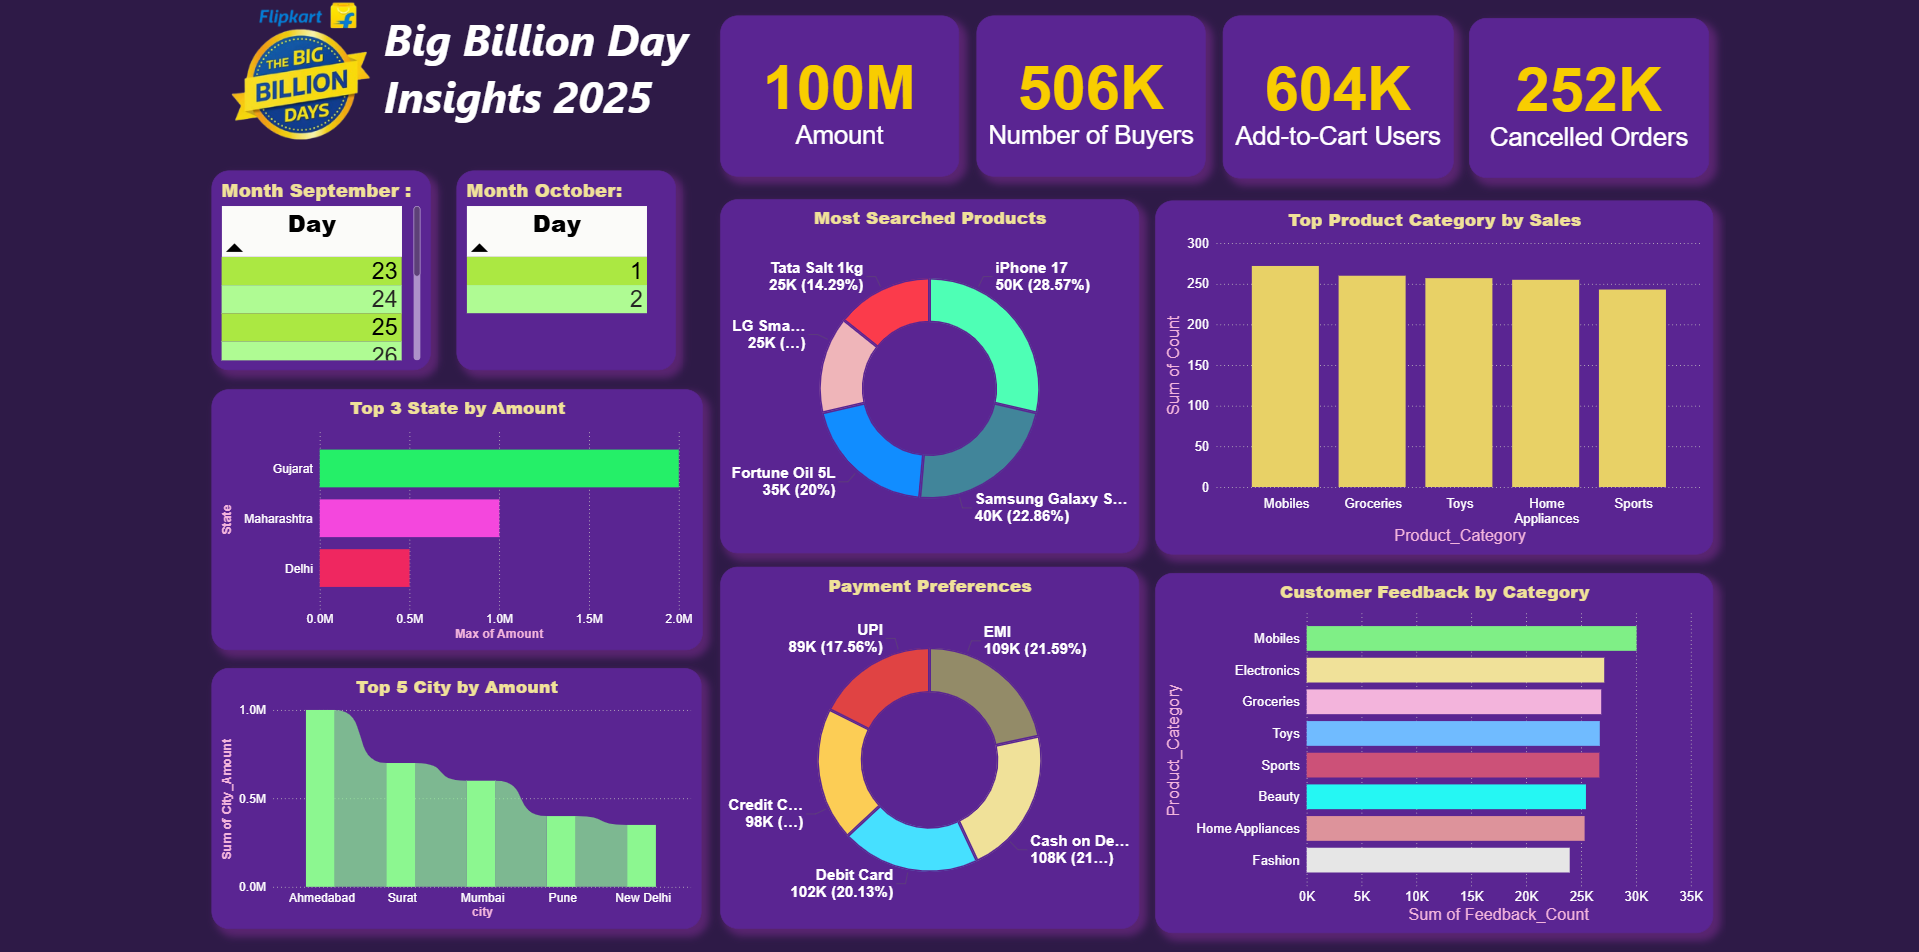

The dashboard page shown, as its layout file describes it:
{"tool":"powerbi","page":{"name":"Page 1","canvas":[2000,1250],"ordinal":0},"visuals":[{"type":"image","box":[23.6,0,236.2,192.6],"z":0},{"type":"textbox","box":[243.6,10.3,520.2,185.8],"z":1000},{"type":"columnChart","title":"Top Product Category by Sales","fields":{"Category":["product_category_group.Product_Category"],"Y":["Sum(product_category_group.Count)"]},"box":[1255.2,264.2,728.7,462.4],"z":2000},{"type":"barChart","title":"Customer Feedback by Category","fields":{"Y":["Sum(aboutbbd.Feedback_Count)"],"Category":["aboutbbd.Product_Category"]},"box":[1255.2,751.4,728.7,470.7],"z":3000},{"type":"donutChart","title":"Most Searched Products","fields":{"Category":["aboutbbd.Product_Name"],"Y":["Max(aboutbbd.Top Searched Product)"]},"box":[687.5,262.2,547.1,462.4],"z":4000},{"type":"donutChart","title":"Payment Preferences","fields":{"Category":["aboutbbd.Payment_Mode"],"Y":["Sum(aboutbbd.People_Buy)"]},"box":[687.5,743.2,547.1,472.8],"z":5000},{"type":"barChart","title":"Top 3 State by Amount","fields":{"Category":["state_amounts.State"],"Y":["Max(state_amounts.Amount)"]},"box":[23.1,511.2,641.6,340.8],"z":6000},{"type":"ribbonChart","title":"Top 5 City by Amount","fields":{"Category":["state_amounts.city"],"Y":["Sum(state_amounts.City_Amount)"]},"box":[22.7,875.3,640,340.6],"z":7000},{"type":"card","fields":{"Values":["Sum(aboutbbd.Amount)"]},"box":[687.5,22.7,311.7,210.6],"z":8000},{"type":"card","fields":{"Values":["Sum(aboutbbd.People_Add_to_Cart)"]},"box":[1343.9,22.7,301.4,212.6],"z":9000},{"type":"card","fields":{"Values":["Sum(aboutbbd.People_Buy)"]},"box":[1021.9,22.7,299.3,210.6],"z":10000},{"type":"card","fields":{"Values":["Sum(aboutbbd.People_Cancel)"]},"box":[1666,26.8,313.8,208.5],"z":11000},{"type":"tableEx","title":"Month September :","fields":{"Values":["aboutbbd.Order_Date.Variation.Date Hierarchy.Day"]},"box":[23.1,225.1,286.1,260.8],"z":12000},{"type":"tableEx","title":"Month October:","fields":{"Values":["aboutbbd.Order_Date.Variation.Date Hierarchy.Day"]},"box":[342.9,225.1,286.1,260.8],"z":13000}]}

Visuals, with their boxes on the page's 2000x1250 design canvas (x1, y1, x2, y2). These are canvas units, not pixel positions in the 1919x952 screenshot, which may show the page scaled, cropped or inside an application window:
image: (left=24, top=0, right=260, bottom=193)
textbox: (left=244, top=10, right=764, bottom=196)
"Top Product Category by Sales" columnChart: (left=1255, top=264, right=1984, bottom=727)
"Customer Feedback by Category" barChart: (left=1255, top=751, right=1984, bottom=1222)
"Most Searched Products" donutChart: (left=688, top=262, right=1235, bottom=725)
"Payment Preferences" donutChart: (left=688, top=743, right=1235, bottom=1216)
"Top 3 State by Amount" barChart: (left=23, top=511, right=665, bottom=852)
"Top 5 City by Amount" ribbonChart: (left=23, top=875, right=663, bottom=1216)
card - Sum(aboutbbd.Amount): (left=688, top=23, right=999, bottom=233)
card - Sum(aboutbbd.People_Add_to_Cart): (left=1344, top=23, right=1645, bottom=235)
card - Sum(aboutbbd.People_Buy): (left=1022, top=23, right=1321, bottom=233)
card - Sum(aboutbbd.People_Cancel): (left=1666, top=27, right=1980, bottom=235)
"Month September :" tableEx: (left=23, top=225, right=309, bottom=486)
"Month October:" tableEx: (left=343, top=225, right=629, bottom=486)
